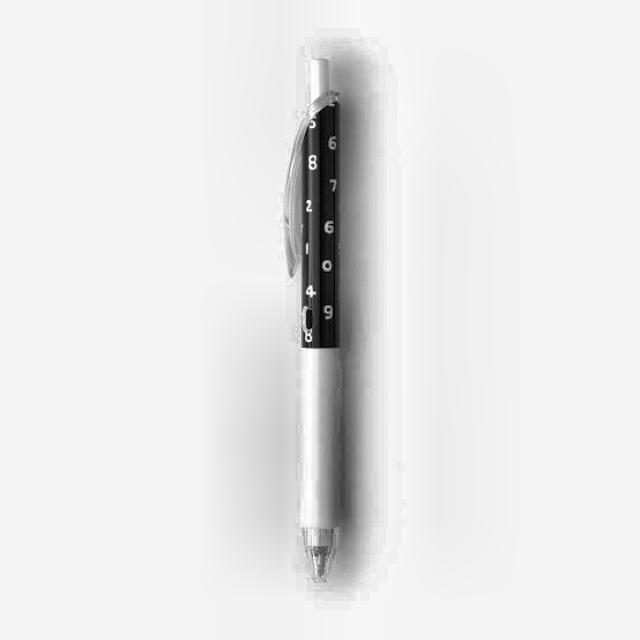Pen: (281, 53, 356, 596)
